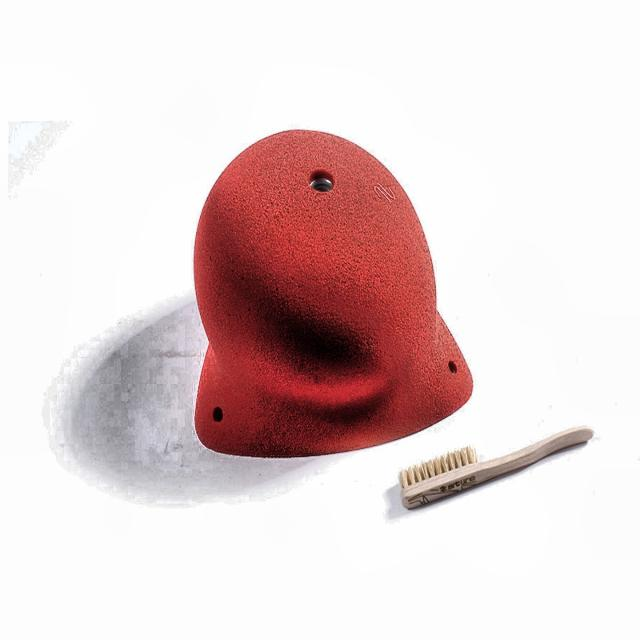Hold: (196, 125, 474, 453)
